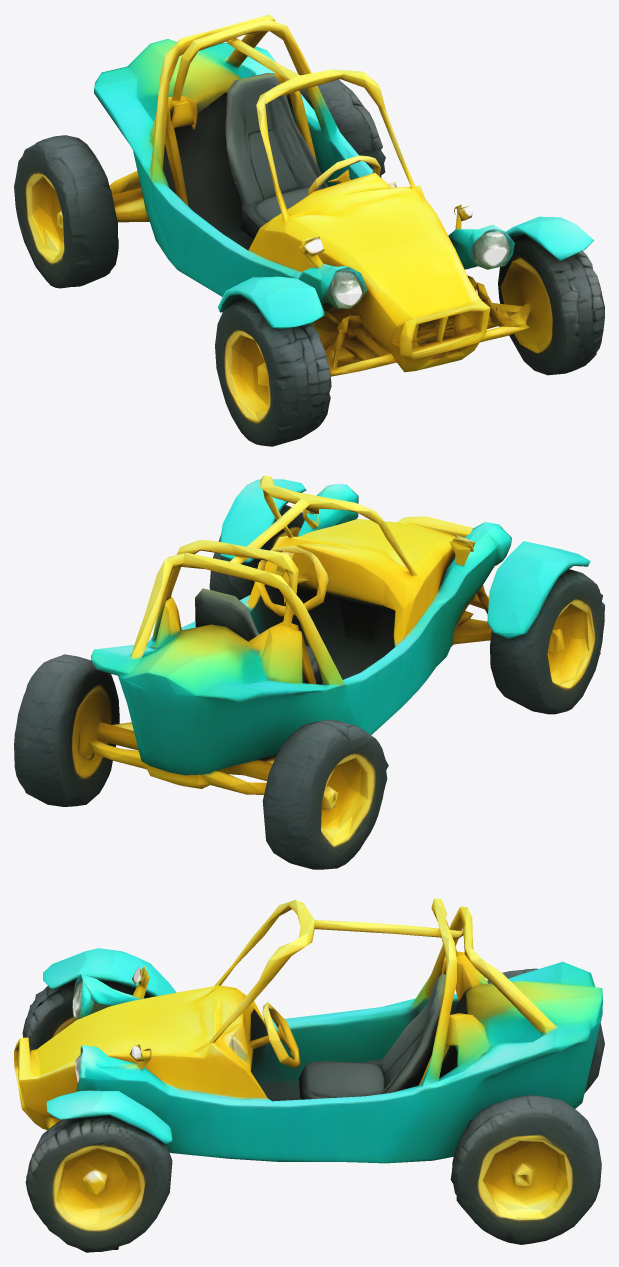
3 views of the same model, one above another, from view 1: azimuth 30°, elevation 25°; view 2: azimuth 150°, elevation 25°; view 3: azimuth 270°, elevation 25° (orthographic).
Parts seen in each view (by area): view 1: model; view 2: model; view 3: model.
Part boxes in pixels (bbox=[...]): model: bbox=[14, 14, 604, 446]; model: bbox=[14, 475, 604, 869]; model: bbox=[14, 898, 604, 1252].
Bounding box in the file's own units: 1.24 × 0.9226 × 1.9.
Materials: 1 (1 with a texture image).
